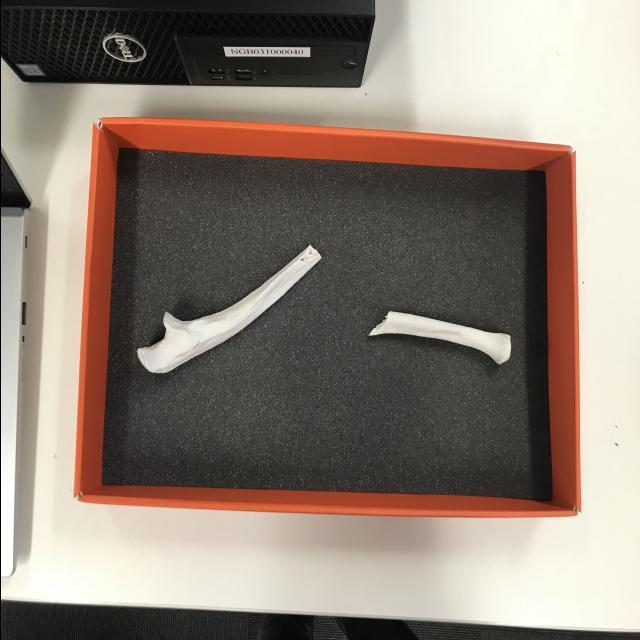bone: (130, 240, 319, 380), (358, 304, 512, 374)
